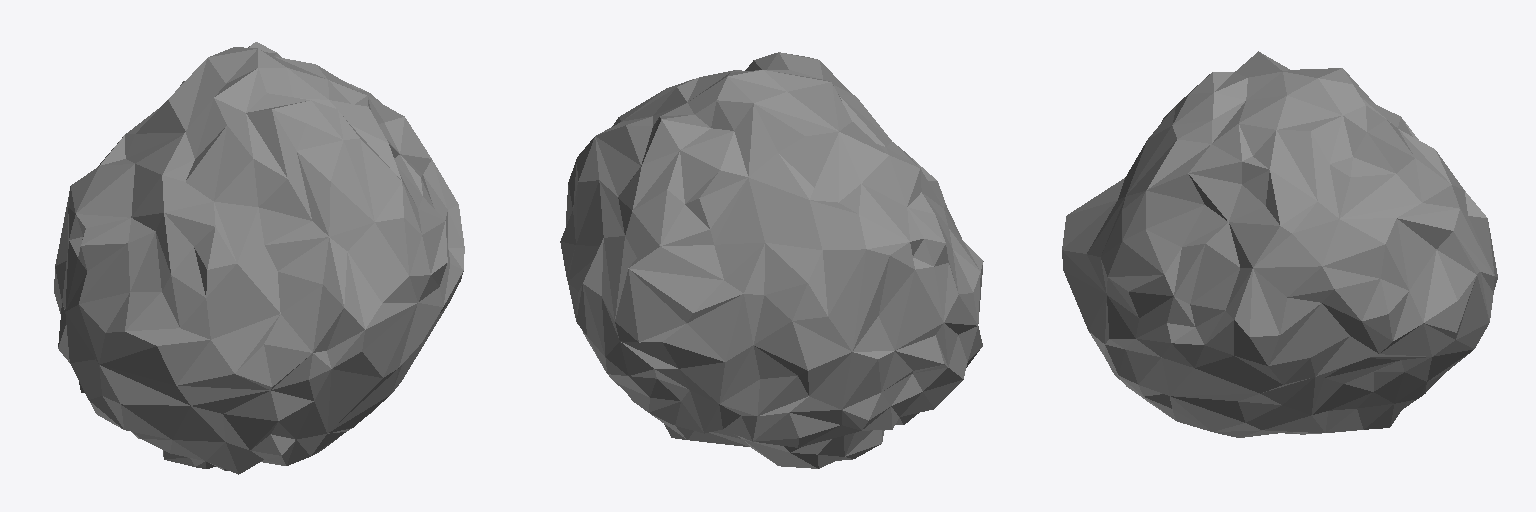
File: Asteroid_6.obj
3 views of the same model, side by side, from view 1: azimuth 30°, elevation 25°; view 2: azimuth 150°, elevation 25°; view 3: azimuth 270°, elevation 25° (orthographic).
Parts seen in each view (by area): view 1: Asteroid_6; view 2: Asteroid_6; view 3: Asteroid_6.
Part boxes in pixels (left/top/right/bottom): Asteroid_6: left=54, top=42, right=464, bottom=474; Asteroid_6: left=560, top=52, right=983, bottom=468; Asteroid_6: left=1062, top=51, right=1497, bottom=437.
Bounding box in the file's own units: 86.65 × 83.2 × 87.37.